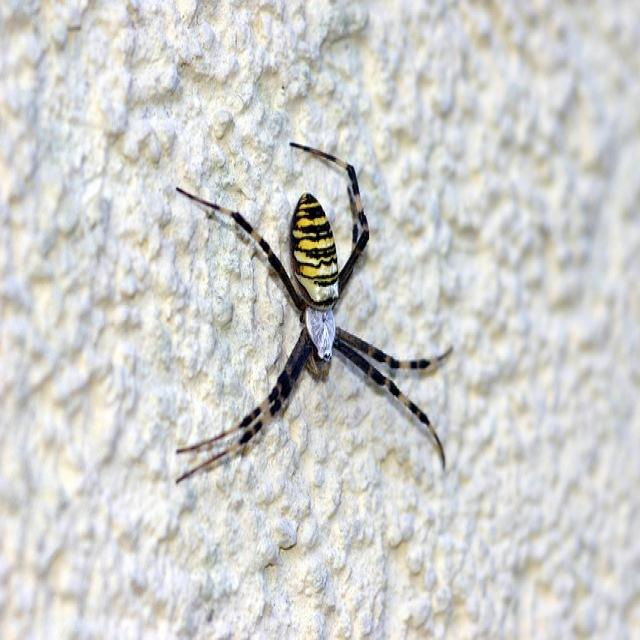spyder: (177, 144, 441, 478)
